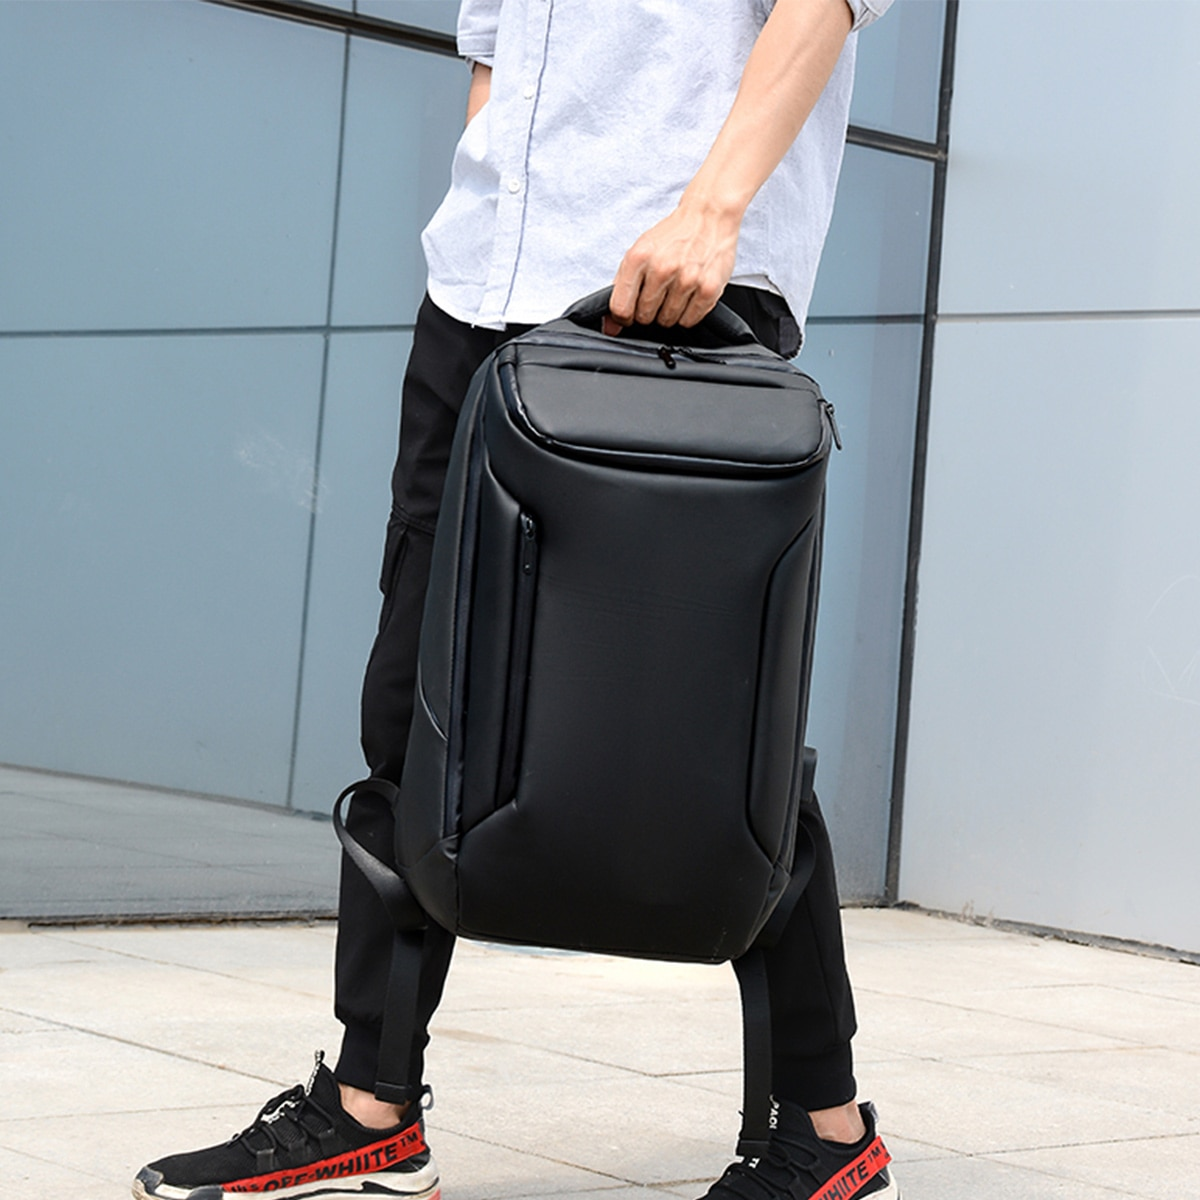Men's Backpacks: (331, 283, 844, 970)
Shoes: (115, 1065, 451, 1200), (702, 1094, 907, 1200)
Tops|T-shirts & Tanks: (420, 1, 901, 348)
